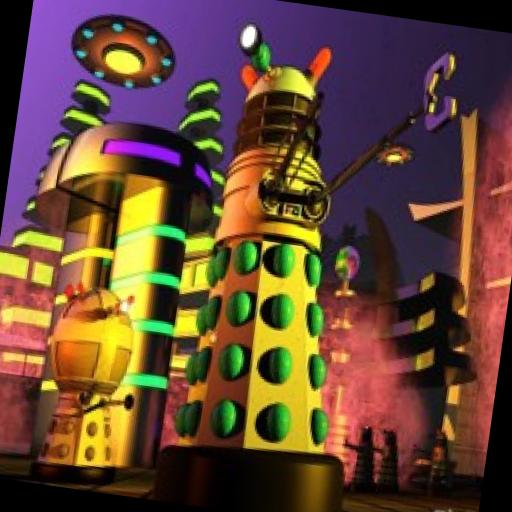dalek: (147, 9, 471, 512), (22, 280, 160, 492), (340, 420, 382, 488), (374, 424, 410, 492)
